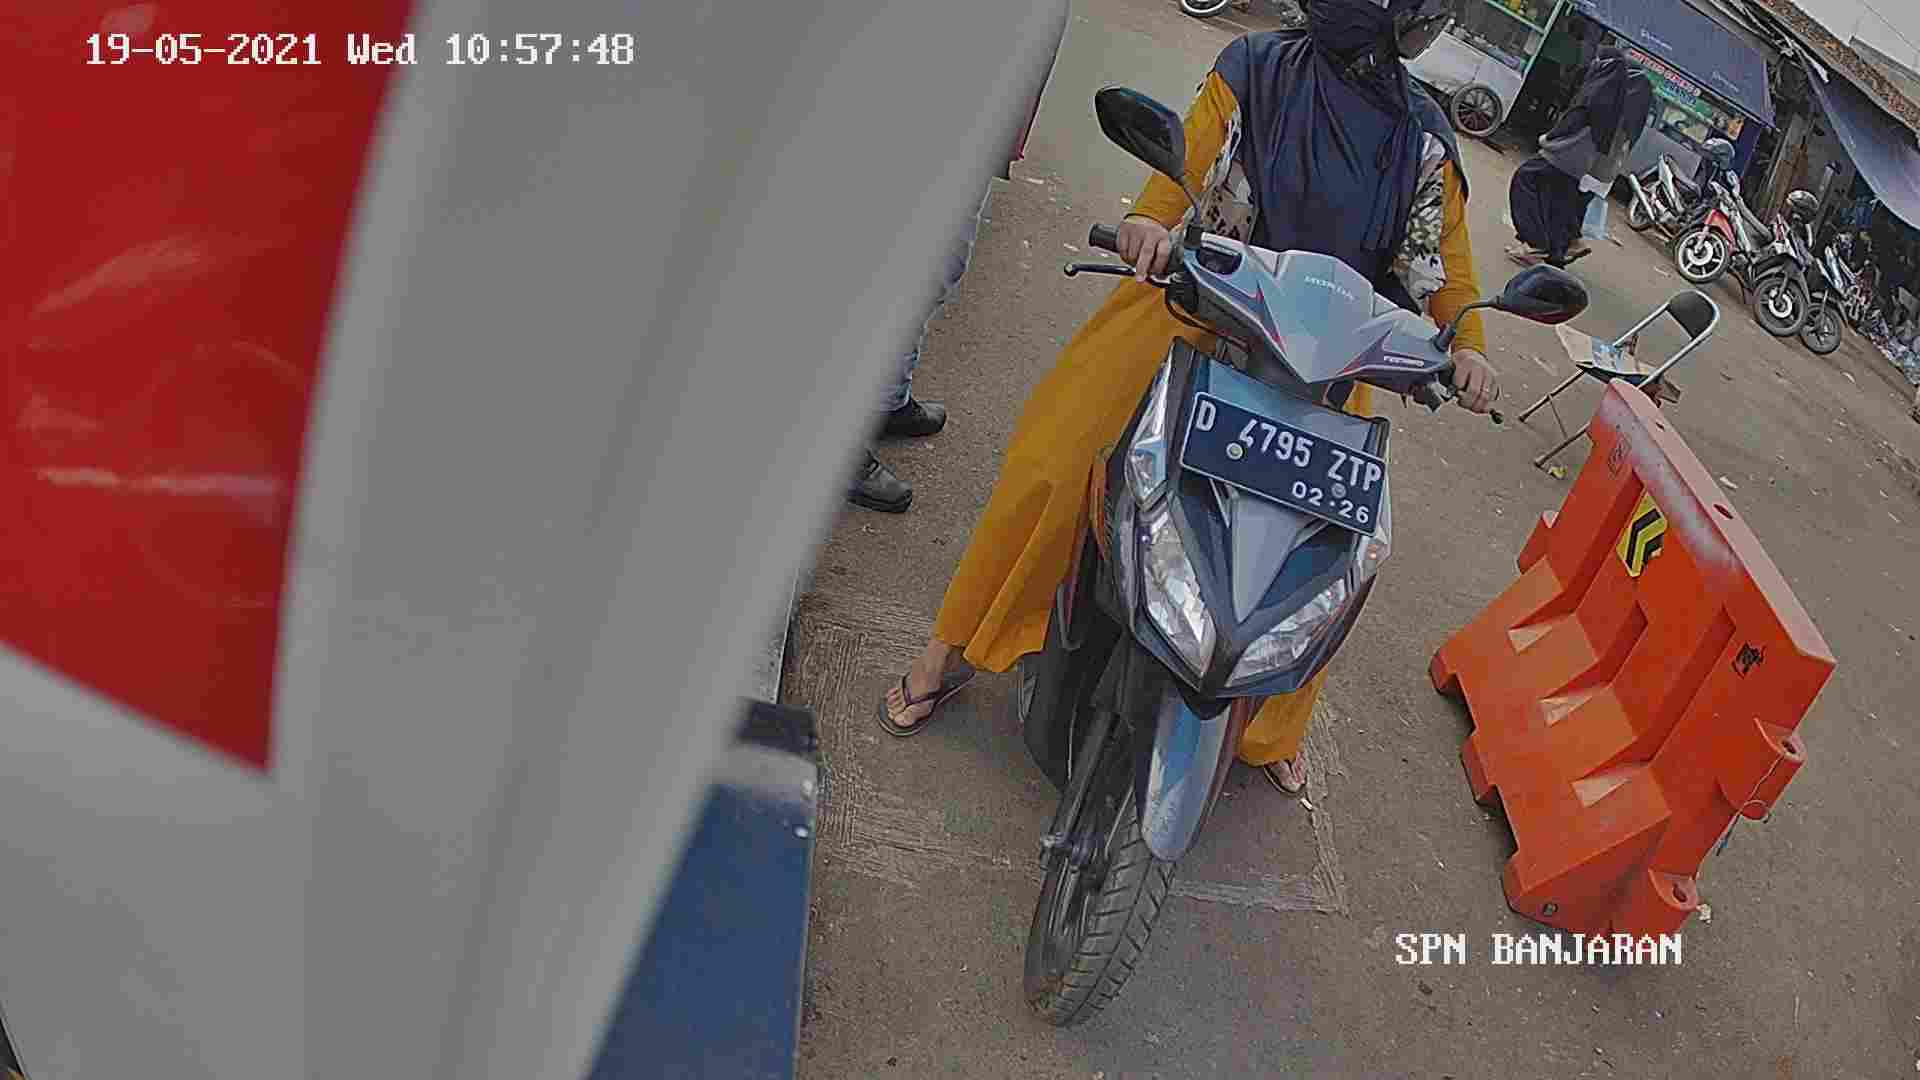motor: (996, 206, 1418, 1007)
